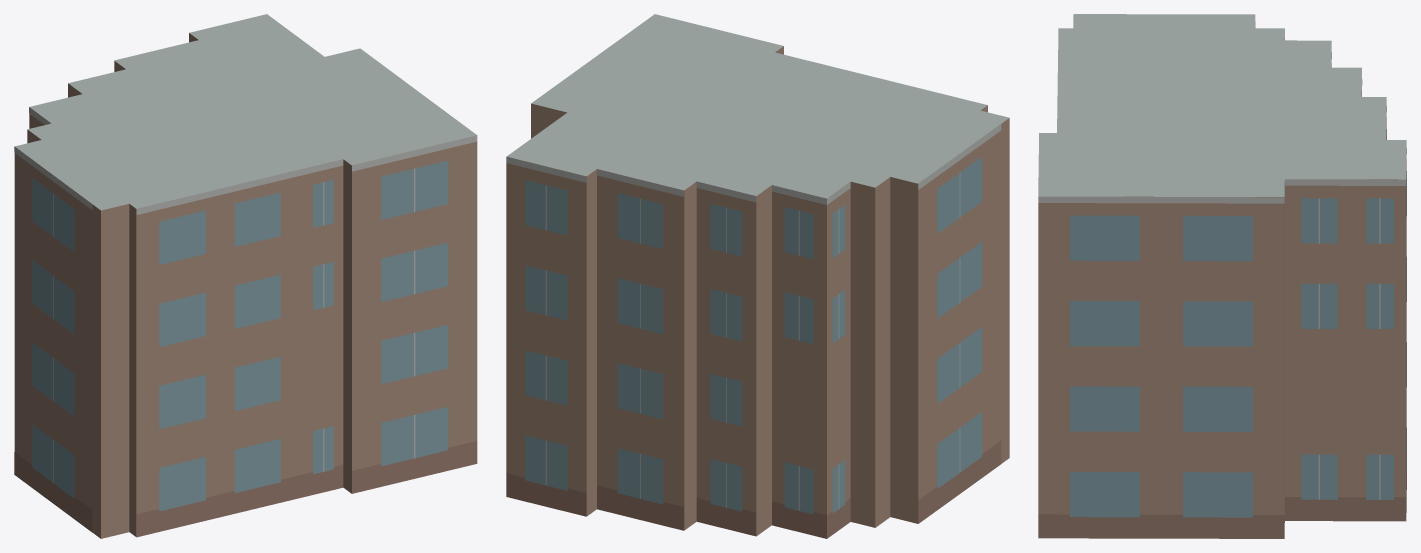
The model's file is survey-upis-32983944.glb.
3 renders of one model, left to right at view 1: azimuth 30°, elevation 25°; view 2: azimuth 150°, elevation 25°; view 3: azimuth 270°, elevation 25°, orthographic. The views are drawn at different scales.
Parts seen in each view (by area): view 1: survey-upis-32983944.tmp; view 2: survey-upis-32983944.tmp; view 3: survey-upis-32983944.tmp.
Boxes of the visible parts, bbox=[...] form: survey-upis-32983944.tmp: bbox=[14, 14, 477, 538]; survey-upis-32983944.tmp: bbox=[506, 14, 1009, 538]; survey-upis-32983944.tmp: bbox=[1038, 14, 1406, 538].
Bounding box in the file's own units: 14.72 × 12.8 × 12.52.
